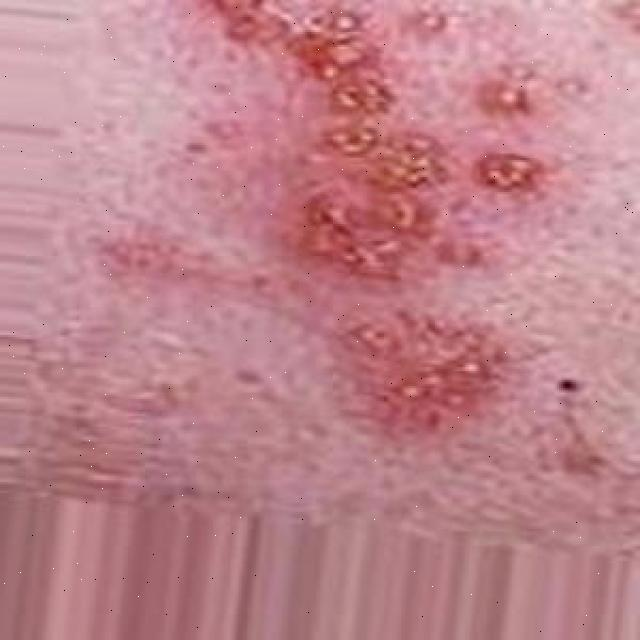Shingles: (200, 0, 535, 427)
